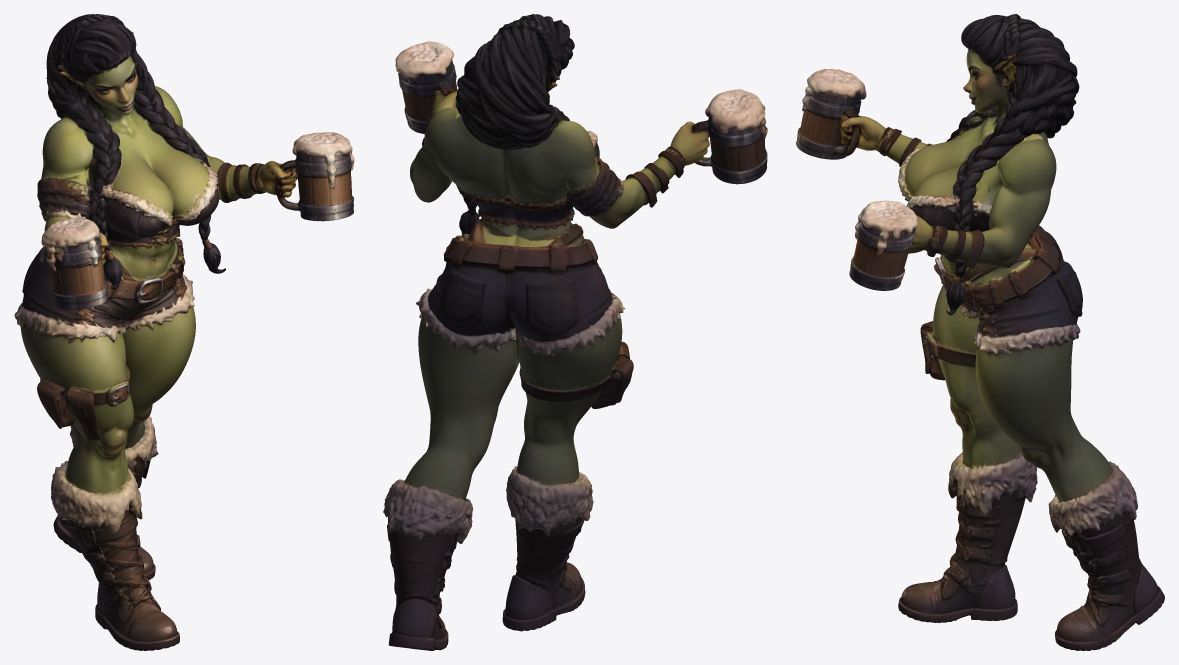
Rendered from orcbarmaid.glb.
3 renders of one model, left to right at view 1: azimuth 30°, elevation 25°; view 2: azimuth 150°, elevation 25°; view 3: azimuth 270°, elevation 25°, orthographic. The views are drawn at different scales.
Size of the model in its own units: 1.1 by 1.9 by 1.08.
1 material, 1 textured.
